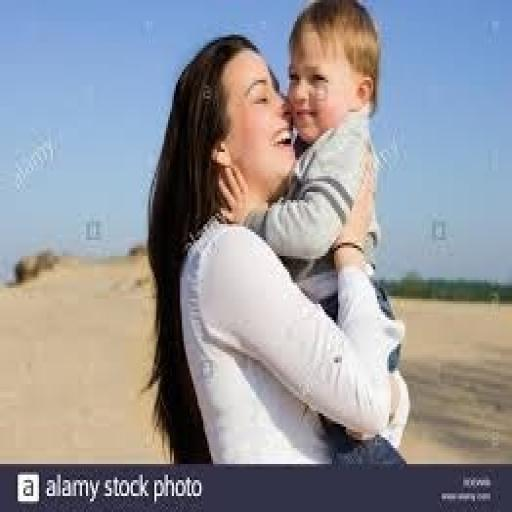hugging: (145, 29, 412, 467)
